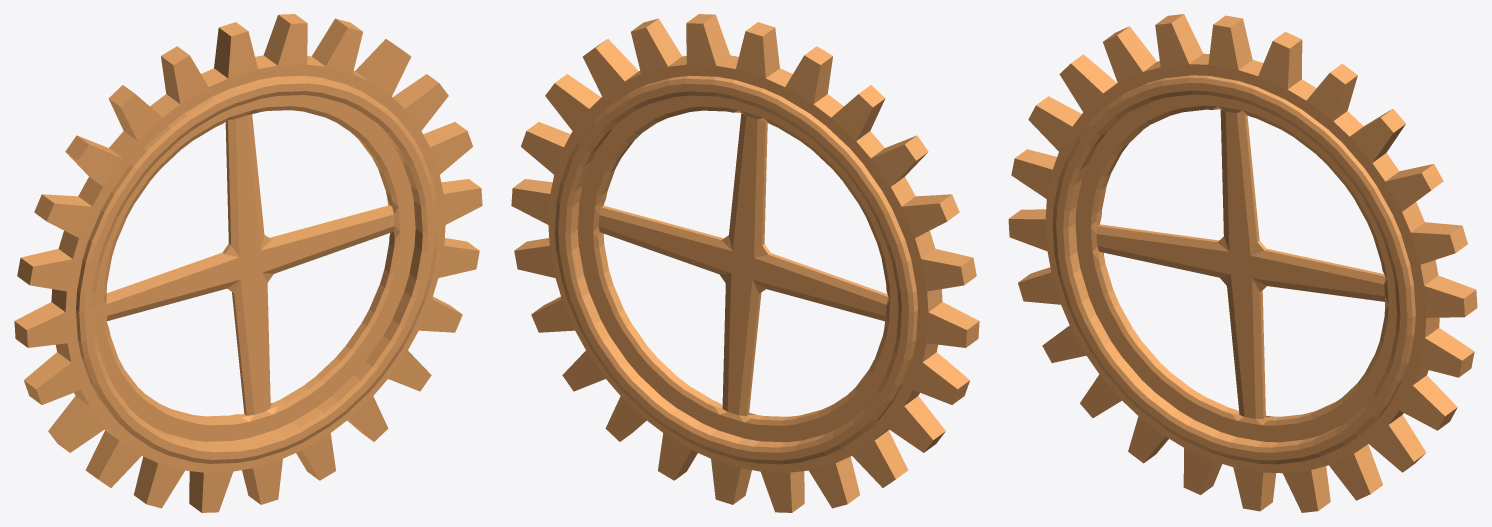
The model's file is Cog_4.5m_T48.fbx.
3 renders of one model, left to right at view 1: azimuth 30°, elevation 25°; view 2: azimuth 150°, elevation 25°; view 3: azimuth 330°, elevation 25°, orthographic.
Visible parts, largest first — view 1: Cog_4.5m_T48; view 2: Cog_4.5m_T48; view 3: Cog_4.5m_T48.
Boxes of the visible parts, x1,y1,x2,y2 form: Cog_4.5m_T48: (14,14,482,512); Cog_4.5m_T48: (511,14,979,512); Cog_4.5m_T48: (1008,14,1477,512).
Bounding box in the file's own units: 1078 × 1078 × 94.52.
